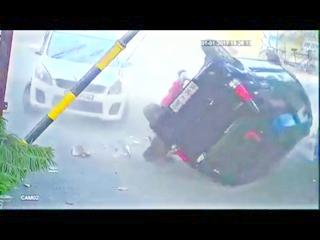Car: (145, 44, 311, 185), (24, 31, 130, 121)
Major Accident: (22, 30, 314, 186)
